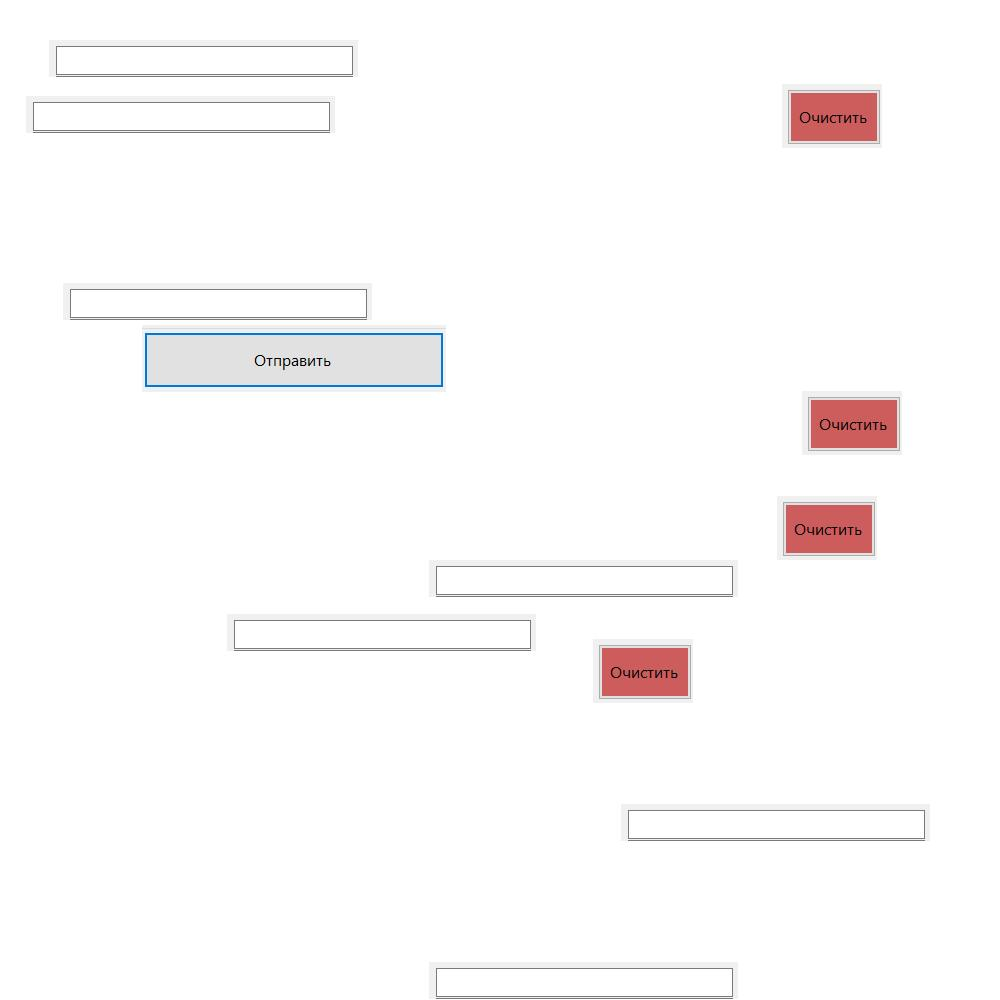Button: (142, 325, 446, 392), (777, 496, 877, 560), (593, 639, 693, 703), (802, 391, 902, 455), (782, 84, 882, 148)
EditText-: (227, 614, 536, 651), (429, 962, 738, 999), (429, 560, 738, 597), (49, 40, 358, 77), (621, 804, 930, 841), (63, 283, 372, 320), (26, 96, 335, 133)
